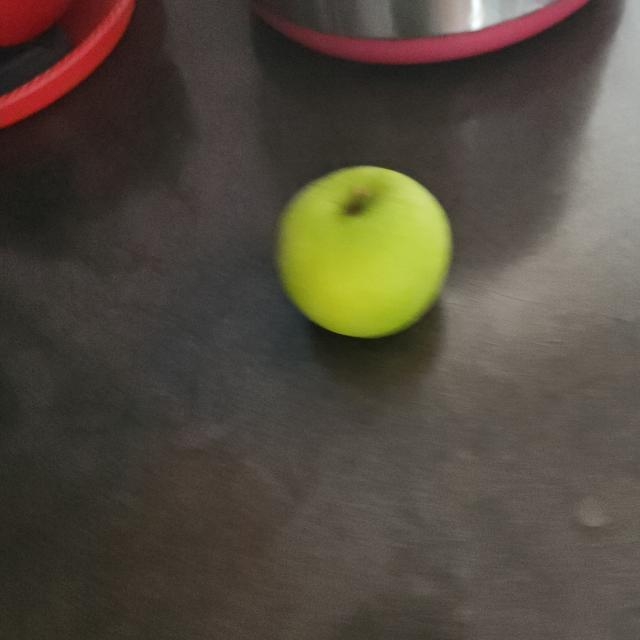apple: (270, 162, 468, 356)
